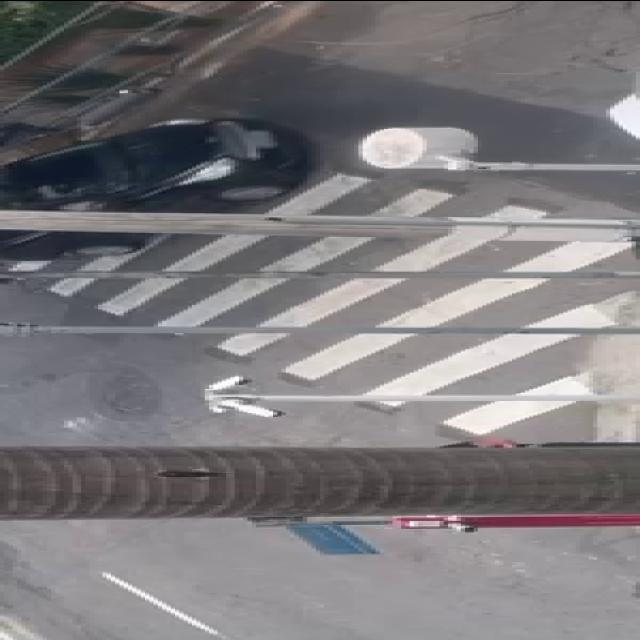car: (0, 117, 298, 266)
